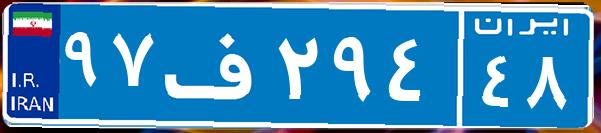2: (273, 28, 330, 110)
4: (385, 28, 445, 110), (475, 38, 525, 113)
7: (110, 28, 158, 105)
8: (525, 38, 570, 115)
9: (330, 28, 385, 110), (57, 26, 110, 107)
ف: (158, 15, 273, 115)
